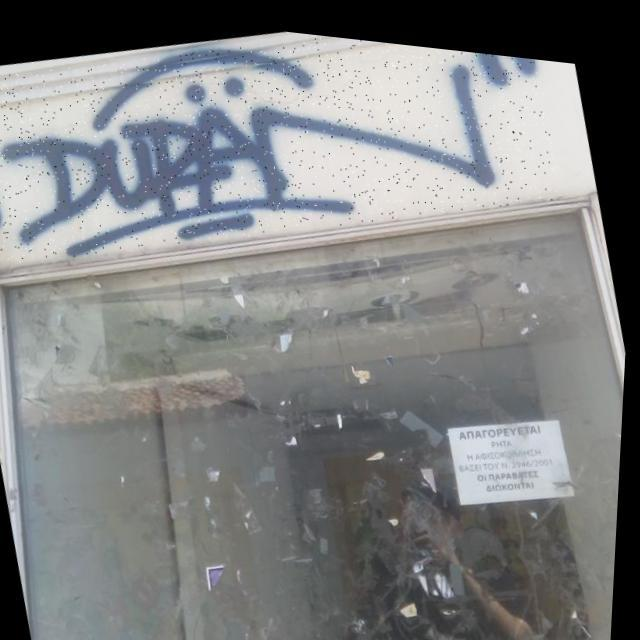-: (0, 0, 568, 321)
